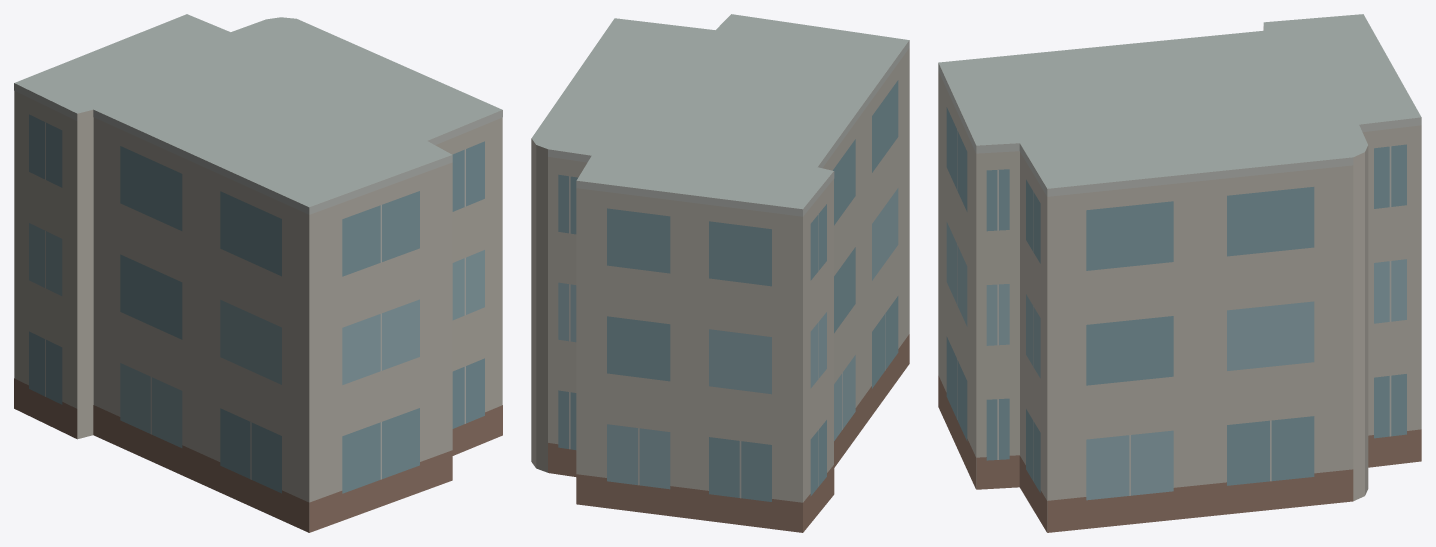
Rendered from survey-upis-32642345.glb.
3 renders of one model, left to right at view 1: azimuth 30°, elevation 25°; view 2: azimuth 150°, elevation 25°; view 3: azimuth 270°, elevation 25°, orthographic. The views are drawn at different scales.
Parts seen in each view (by area): view 1: survey-upis-32642345.tmp; view 2: survey-upis-32642345.tmp; view 3: survey-upis-32642345.tmp.
Part boxes in pixels (x1,y1,x2,y2): survey-upis-32642345.tmp: (14, 14, 502, 532); survey-upis-32642345.tmp: (531, 14, 909, 532); survey-upis-32642345.tmp: (938, 14, 1421, 532).
Bounding box in the file's own units: 11.45 × 10.5 × 13.38.
